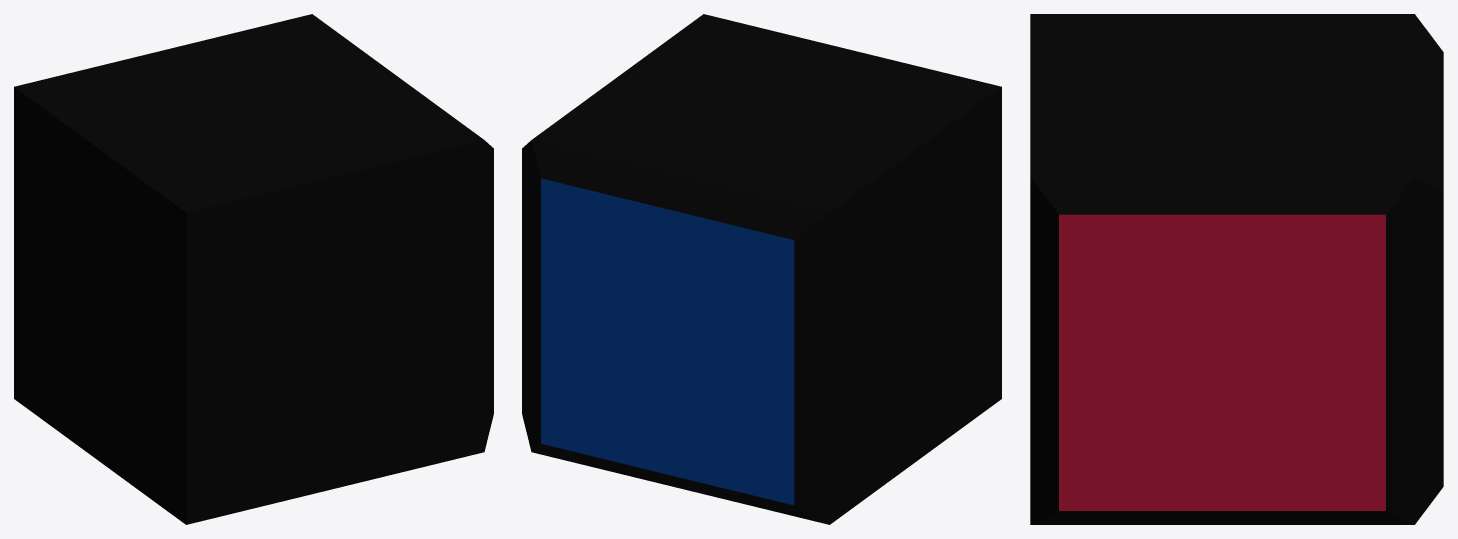
The model's file is rubiks_cube_19.glb.
3 renders of one model, left to right at view 1: azimuth 30°, elevation 25°; view 2: azimuth 150°, elevation 25°; view 3: azimuth 270°, elevation 25°, orthographic. The views are drawn at different scales.
Visible parts, largest first — view 1: Cube19.001; view 2: Cube19.001; view 3: Cube19.001.
Boxes of the visible parts, x1,y1,x2,y2 form: Cube19.001: [14, 14, 493, 524]; Cube19.001: [522, 14, 1001, 524]; Cube19.001: [1030, 14, 1443, 524].
Size of the model in its own units: 2.15 by 2 by 2.15.
